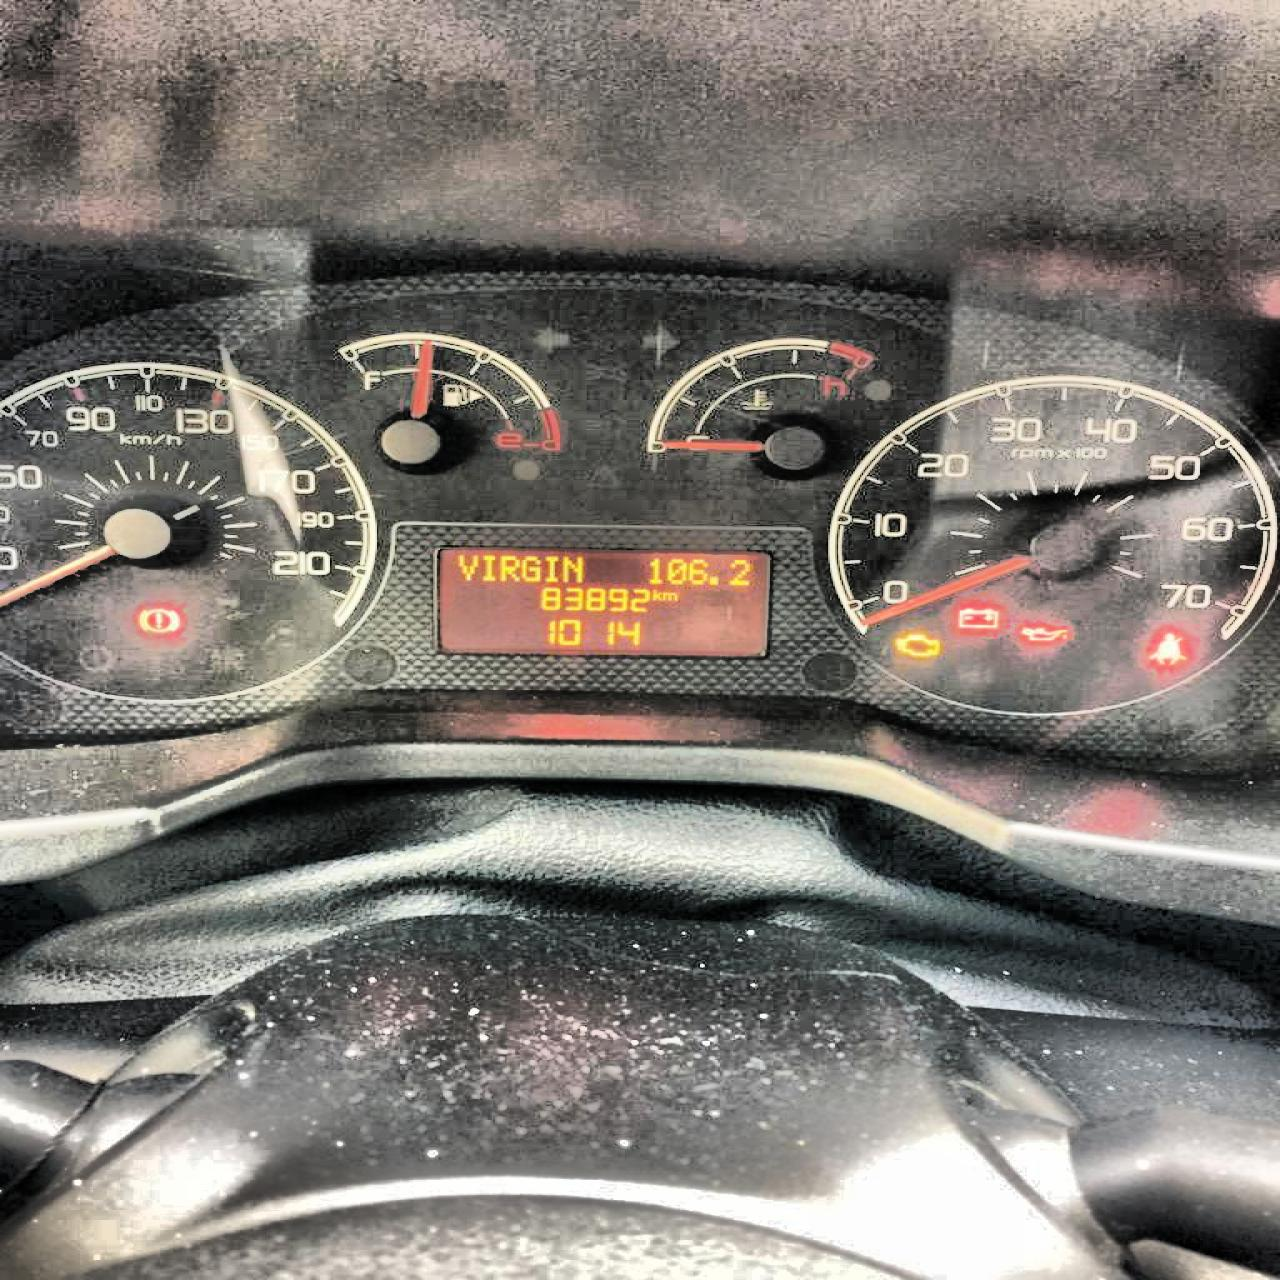-: (708, 573, 719, 586)
0: (557, 618, 580, 645), (666, 557, 687, 584)
1: (647, 554, 663, 585), (546, 618, 556, 644), (607, 619, 613, 646)
2: (727, 558, 750, 586), (628, 586, 649, 612)
3: (564, 586, 581, 612)
4: (614, 619, 639, 645)
6: (687, 556, 708, 585)
8: (585, 586, 605, 612), (540, 586, 560, 610)
9: (607, 586, 628, 613)
X: (560, 553, 584, 581), (455, 552, 477, 581), (498, 552, 518, 583), (542, 552, 560, 584), (520, 556, 542, 583), (481, 552, 495, 583), (662, 590, 679, 600), (651, 588, 662, 601)
odometer: (430, 544, 771, 659)
